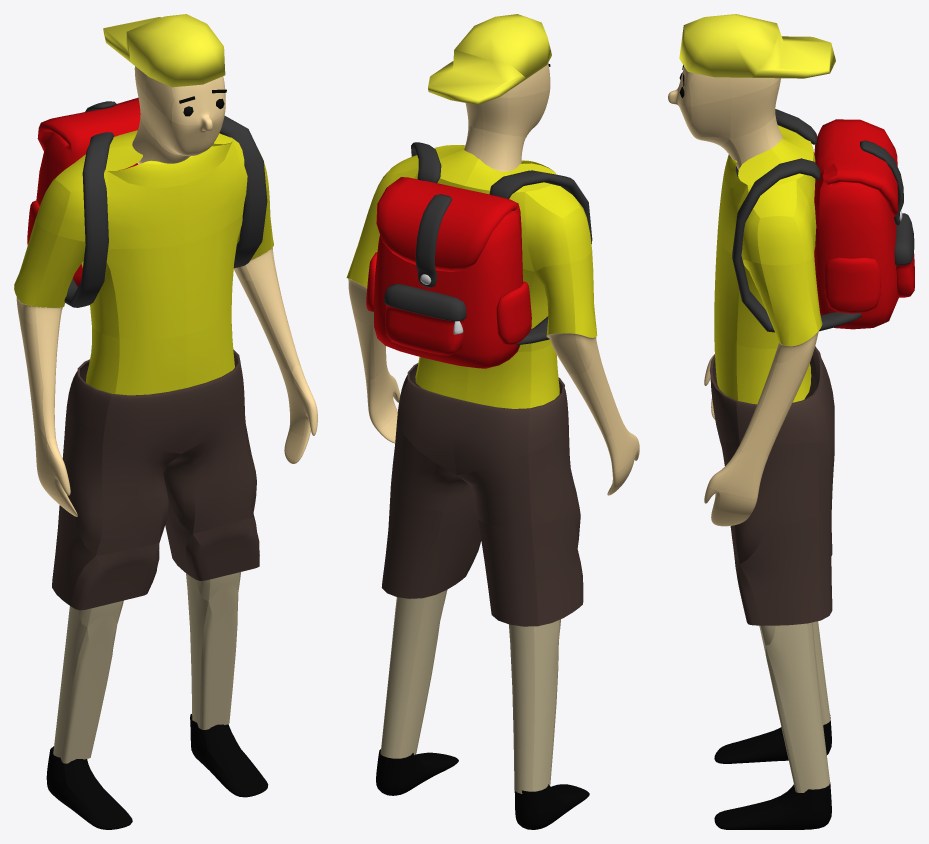
Rendered from Personaje1.fbx.
3 views of the same model, side by side, from view 1: azimuth 30°, elevation 25°; view 2: azimuth 150°, elevation 25°; view 3: azimuth 270°, elevation 25° (orthographic). The views are drawn at different scales.
Visible parts, largest first — view 1: Camisa, Pantalon, Piel, Piernas, Backpack.001, Zapatos, Gorra; view 2: Pantalon, Backpack.001, Camisa, Piernas, Piel, Gorra, Zapatos; view 3: Backpack.001, Pantalon, Camisa, Piel, Piernas, Gorra, Zapatos.
Part boxes in pixels (x1,y1,x2,y2): Camisa: (14, 130, 273, 395); Pantalon: (52, 349, 259, 610); Piel: (14, 66, 317, 516); Piernas: (53, 572, 240, 763); Backpack.001: (27, 97, 267, 307); Zapatos: (46, 714, 268, 829); Gorra: (103, 14, 225, 87); Pantalon: (381, 363, 583, 626); Backpack.001: (366, 142, 592, 368); Camisa: (346, 145, 596, 408); Piernas: (380, 590, 560, 793); Piel: (346, 63, 639, 495); Gorra: (428, 14, 551, 104); Zapatos: (376, 749, 589, 829); Backpack.001: (732, 109, 914, 332); Pantalon: (709, 346, 834, 625); Camisa: (714, 125, 822, 404); Piel: (668, 67, 819, 526); Piernas: (759, 399, 830, 792); Gorra: (679, 14, 835, 78); Zapatos: (714, 715, 831, 829).
Size of the model in its own units: 99.63 by 286 by 82.35.
